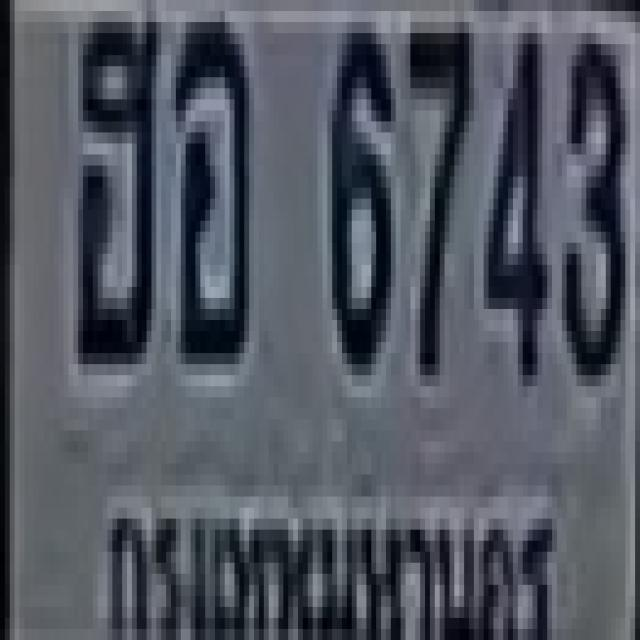3: (557, 22, 630, 385)
4: (479, 22, 551, 390)
6: (327, 16, 395, 378)
7: (405, 11, 473, 376)
A43: (171, 16, 255, 368)
A44: (71, 11, 166, 372)
BKK: (87, 467, 562, 640)
